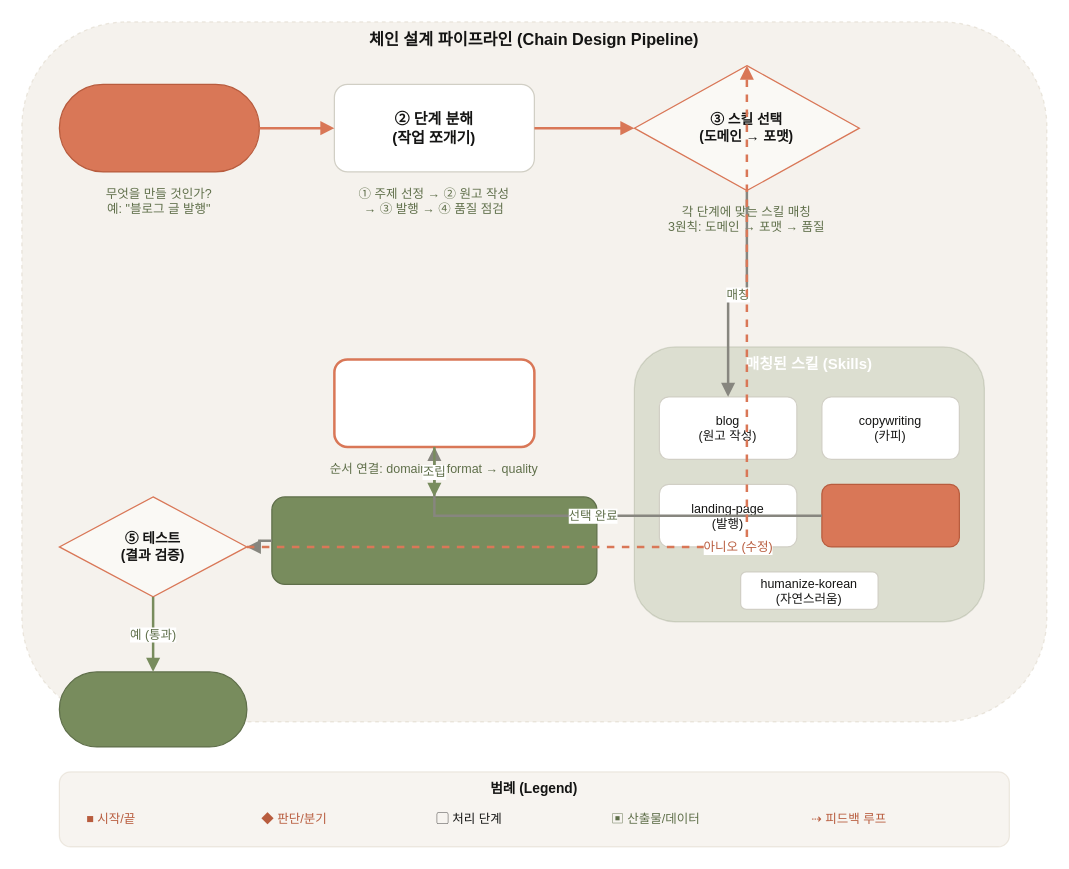
This 1069x869 diagram has some shape labels left out. The centre of each missing label's shape, as x and y in pixels:
"ai-slop-reviewer (품질 점검)" goes at point (890, 515).
"① 입력 분석 (요청 이해)" goes at point (158, 127).
"④ 흐름 구성 (체인 조립)" goes at point (433, 403).
"완성된 산출물 (배포)" goes at point (152, 709).
"조립된 체인 blog → copywriting → landing-page → ai-slop-reviewer → humanize-korean" goes at point (434, 540).
